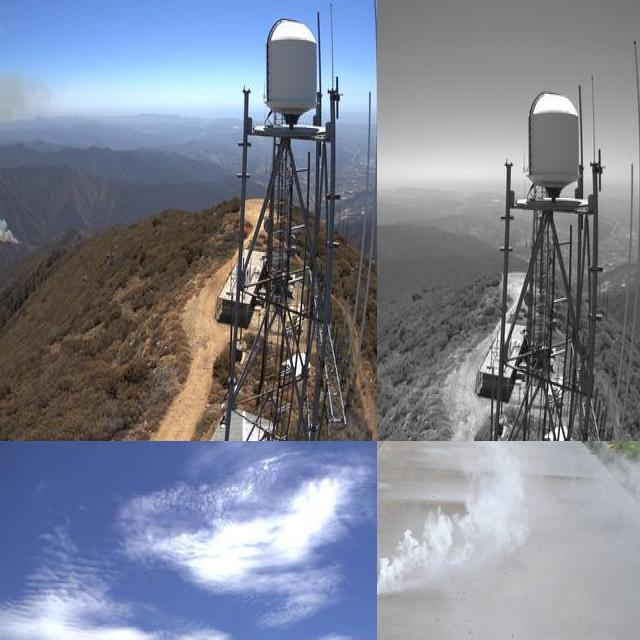smoke: (377, 441, 528, 605), (572, 447, 640, 525)
